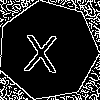X: (23, 25, 59, 73)
